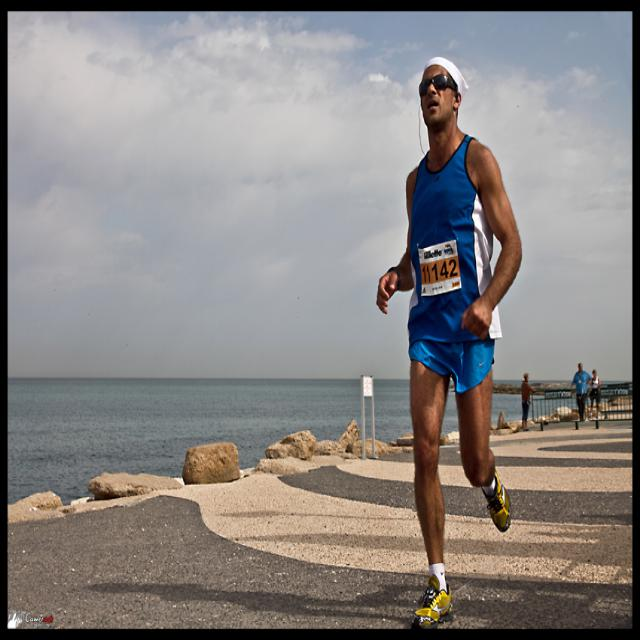Bib: (419, 261, 461, 287)
